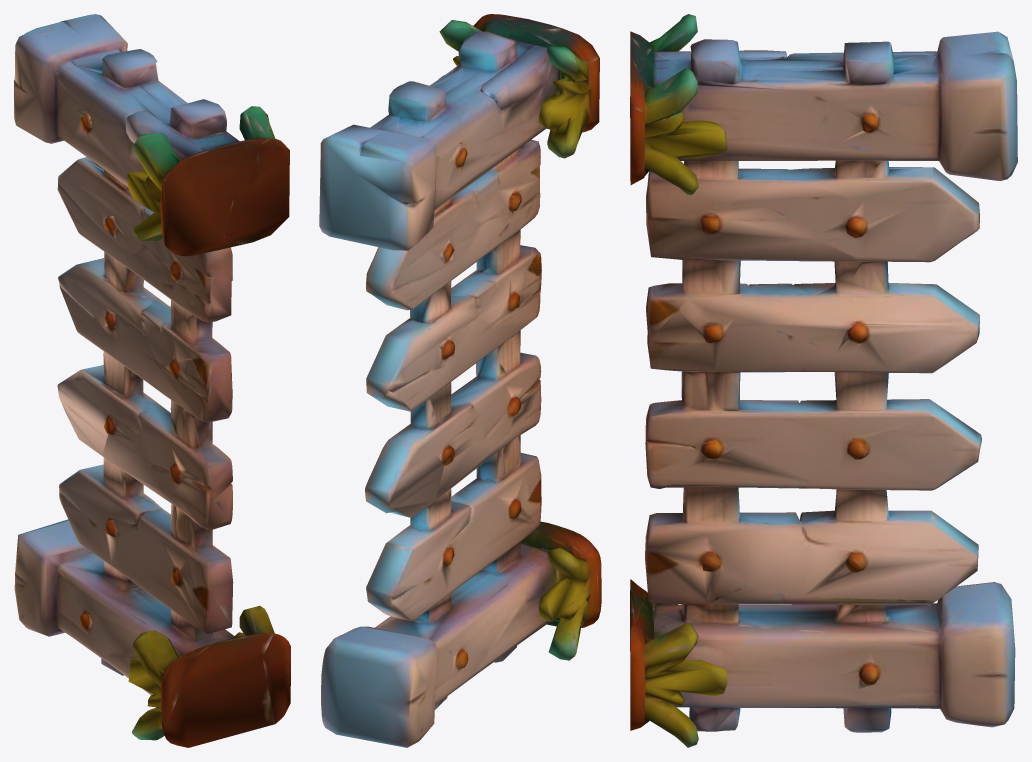
3 renders of one model, left to right at view 1: azimuth 30°, elevation 25°; view 2: azimuth 150°, elevation 25°; view 3: azimuth 270°, elevation 25°, orthographic. The views are drawn at different scales.
Visible parts, largest first — view 1: material; view 2: material; view 3: material.
Part boxes in pixels (box(x1,y1,x2,y2)): material: box(14, 14, 290, 747); material: box(319, 14, 601, 747); material: box(630, 14, 1017, 747).
Size of the model in its own units: 0.2341 by 1 by 0.521.
1 material, 1 textured.
